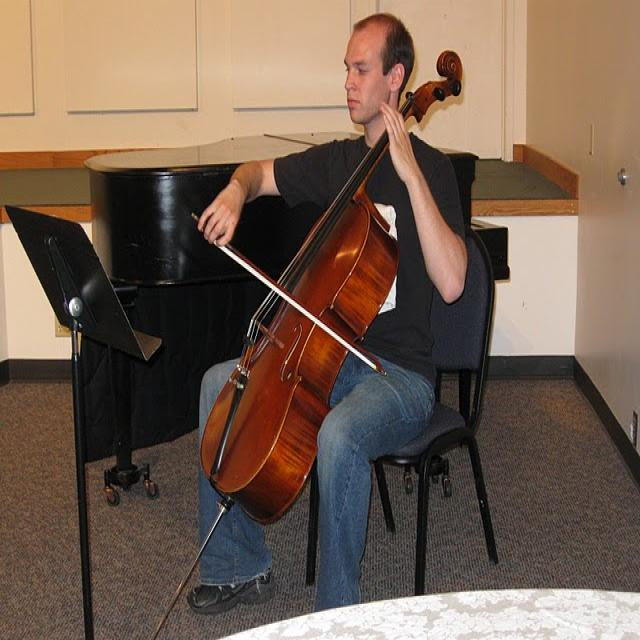cello: (199, 48, 465, 525)
